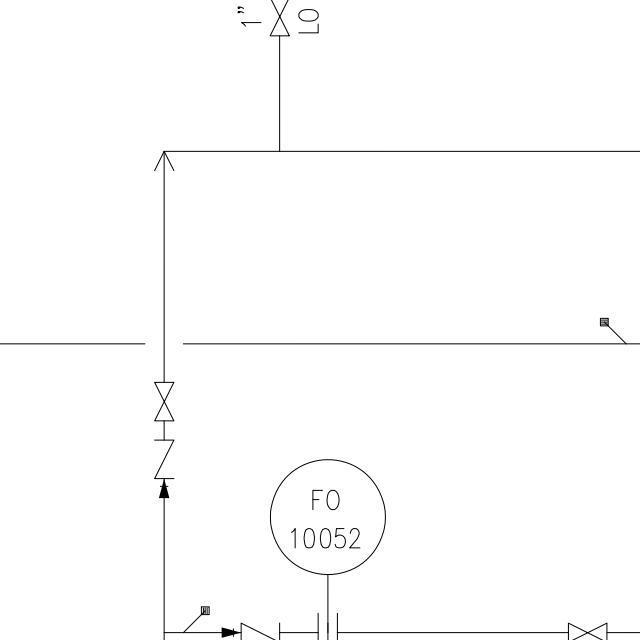GV: (149, 375, 178, 430), (562, 621, 609, 640)
